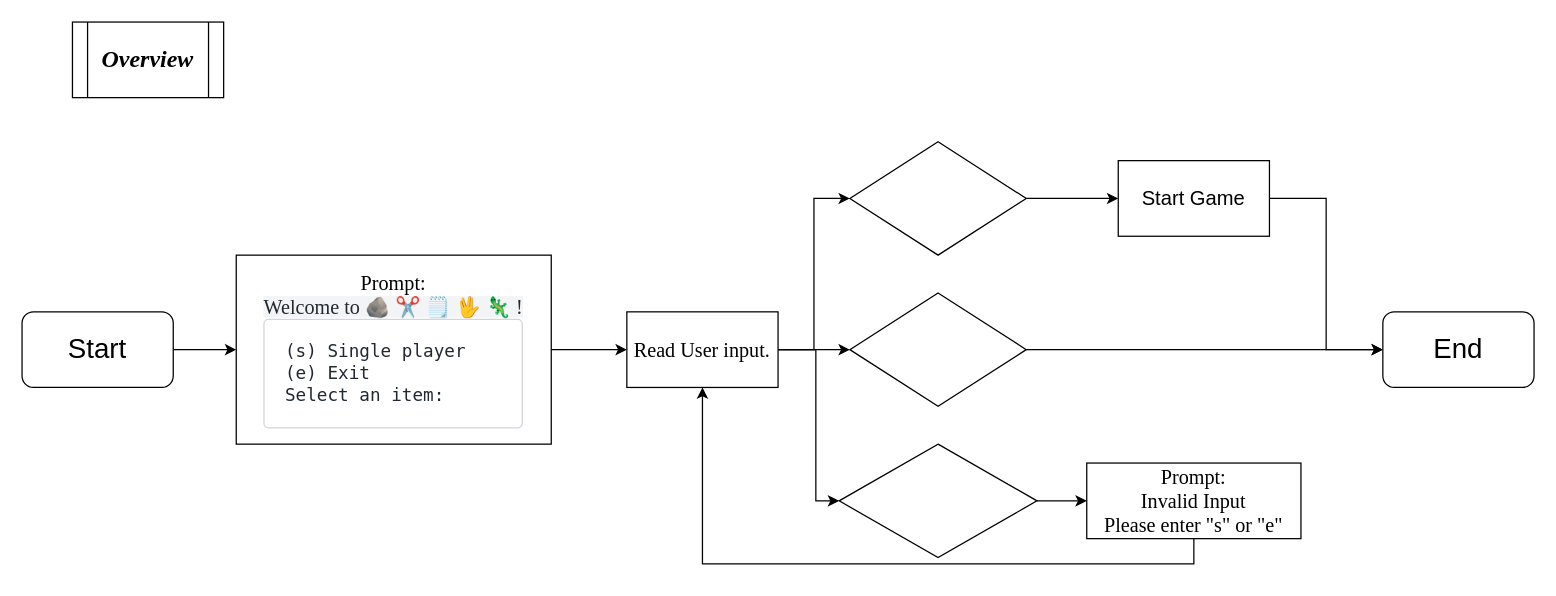
This 1556x596 diagram has some shape labels left out. The shapes that lost their labels are listed below. From the top down, each one's centre as x and y in pixels, then its label:
point (937, 197): If user input "s"
point (937, 349): If user input "e"
point (937, 500): If user input others
